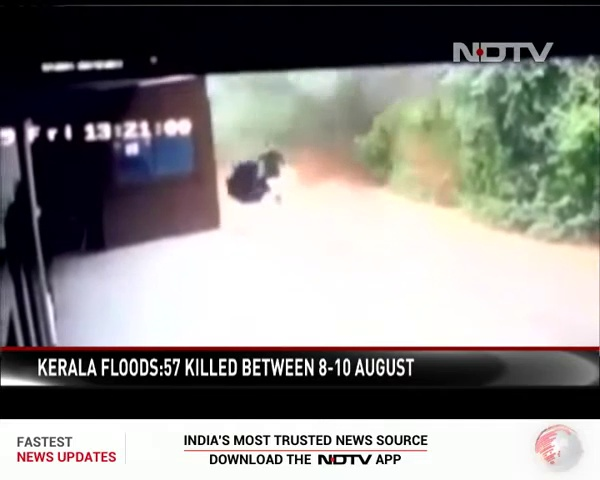person: (259, 140, 282, 202)
